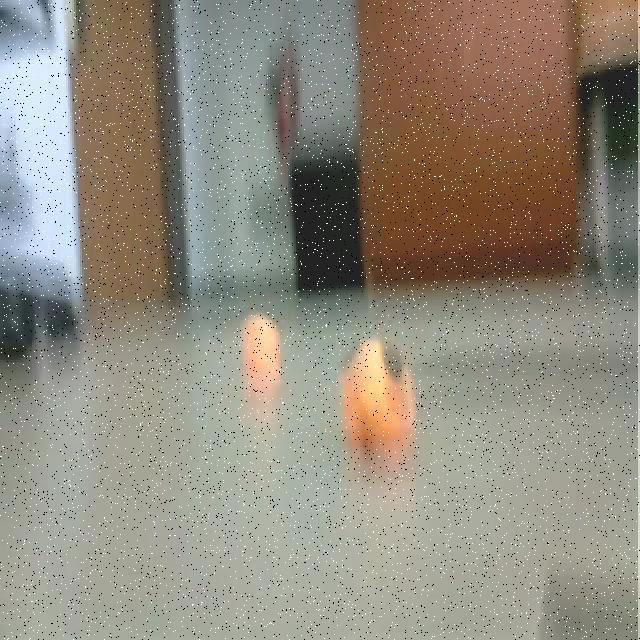ping-pong-ball: (340, 328, 420, 472), (239, 308, 287, 387)
